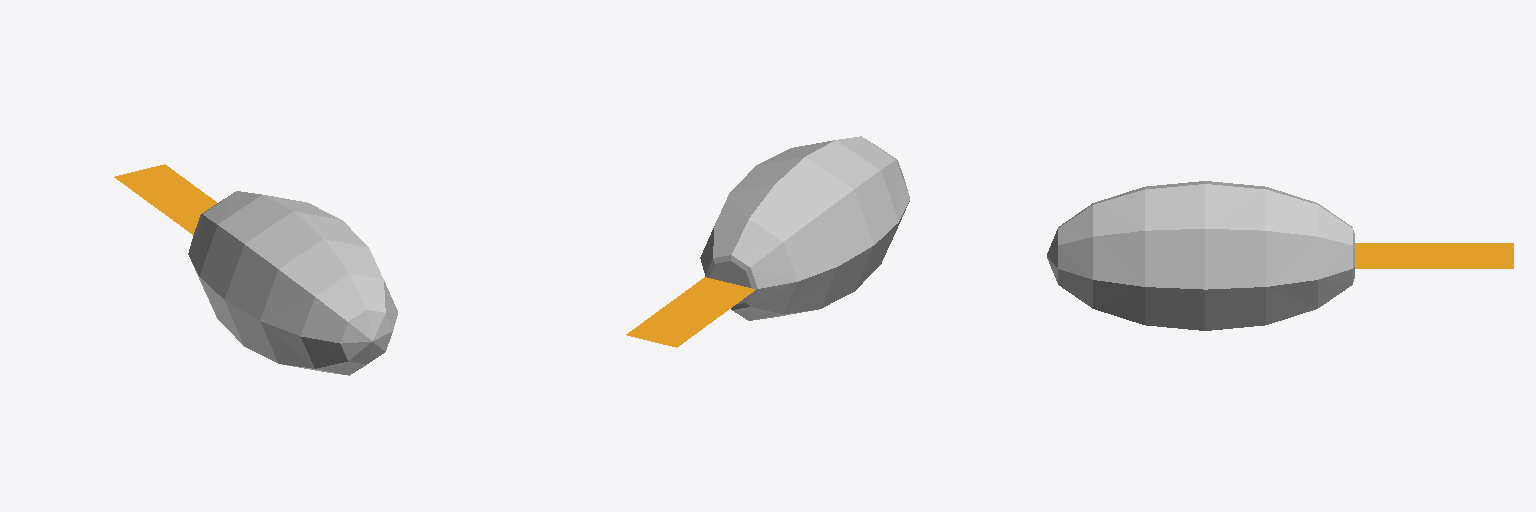
The model's file is tree_tall_night.obj.
The picture shows the model from 3 angles: view 1: azimuth 30°, elevation 25°; view 2: azimuth 150°, elevation 25°; view 3: azimuth 270°, elevation 25°; orthographic projection.
Parts seen in each view (by area): view 1: tree_tall; view 2: tree_tall; view 3: tree_tall.
Part boxes in pixels (x1,y1,x2,y2): tree_tall: (114, 164, 397, 375); tree_tall: (626, 136, 909, 347); tree_tall: (1047, 181, 1513, 330).
Size of the model in its own units: 32 by 32 by 94.